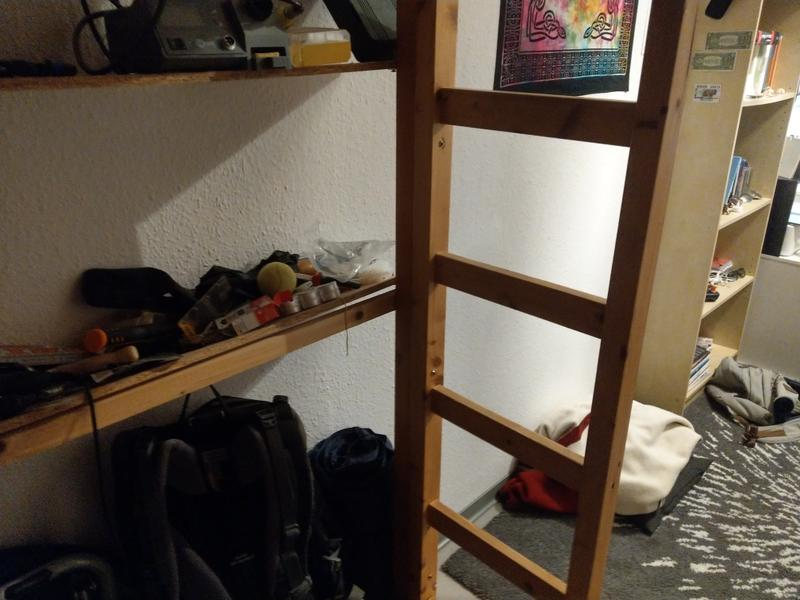Tennisball: (257, 259, 298, 297)
